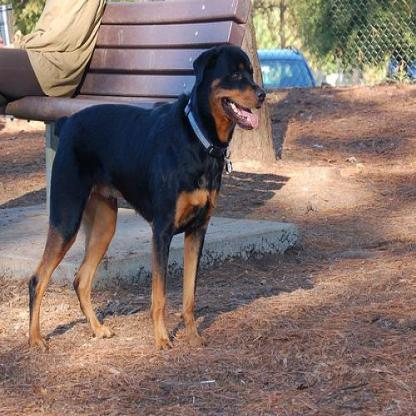Rottweiler: (26, 40, 267, 352)
